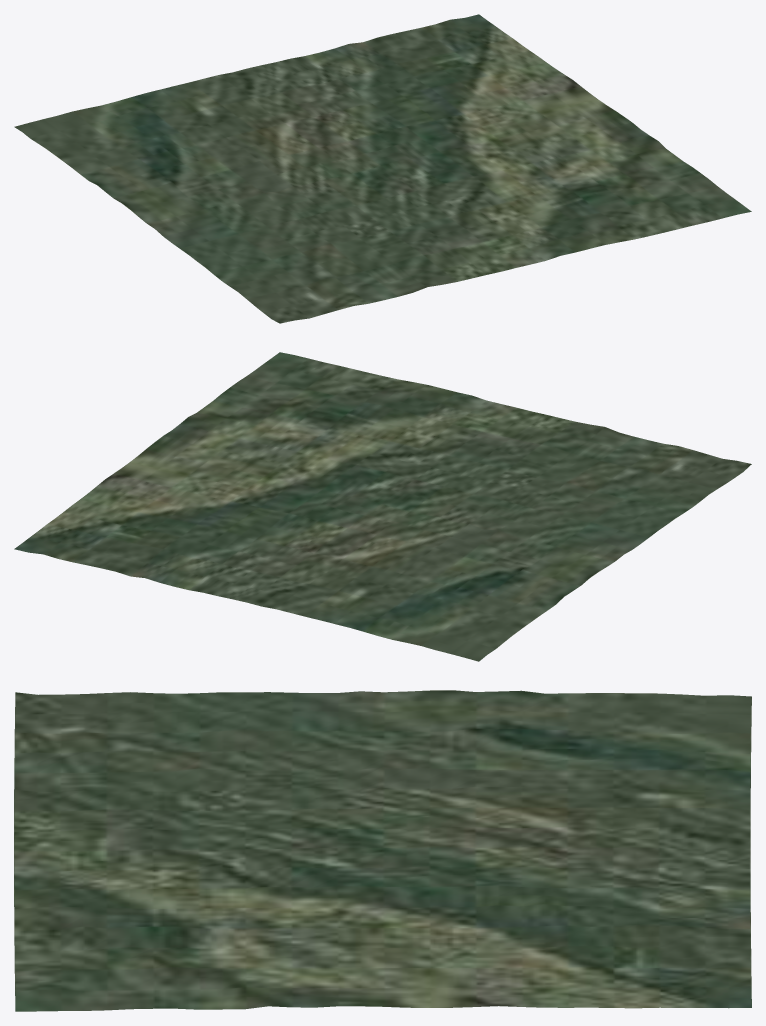
The picture shows the model from 3 angles, top to bottom: view 1: azimuth 30°, elevation 25°; view 2: azimuth 150°, elevation 25°; view 3: azimuth 270°, elevation 25°; orthographic projection. The views are drawn at different scales.
Bounding box in the file's own units: 123993 × 1664 × 122785.
1 material, 1 textured.
